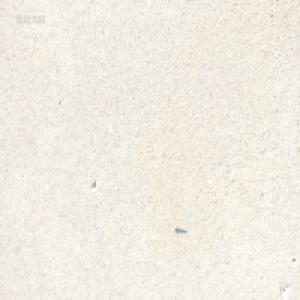Nail: (174, 224, 187, 232)
